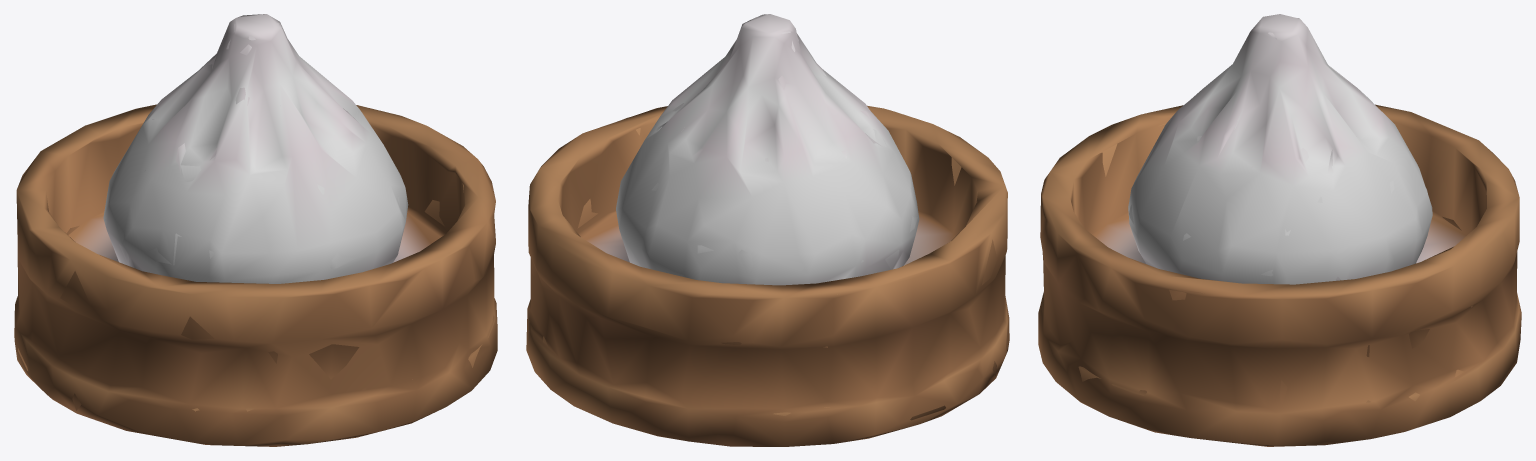
The model's file is gen3d-dumpling-lod1.glb.
3 renders of one model, left to right at view 1: azimuth 30°, elevation 25°; view 2: azimuth 150°, elevation 25°; view 3: azimuth 270°, elevation 25°, orthographic.
Visible parts, largest first — view 1: part_0; view 2: part_0; view 3: part_0.
Boxes of the visible parts, left/top/right/bottom form: part_0: left=14, top=14, right=497, bottom=446; part_0: left=526, top=14, right=1009, bottom=446; part_0: left=1038, top=14, right=1521, bottom=446.
Size of the model in its own units: 1.35 by 0.9979 by 1.35.
